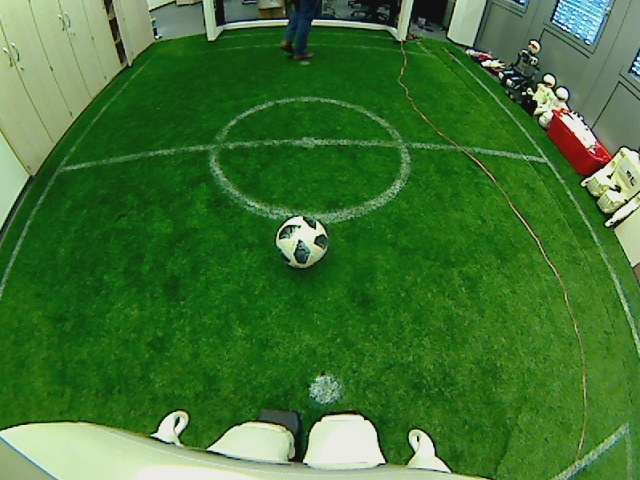ball: (273, 212, 330, 269)
